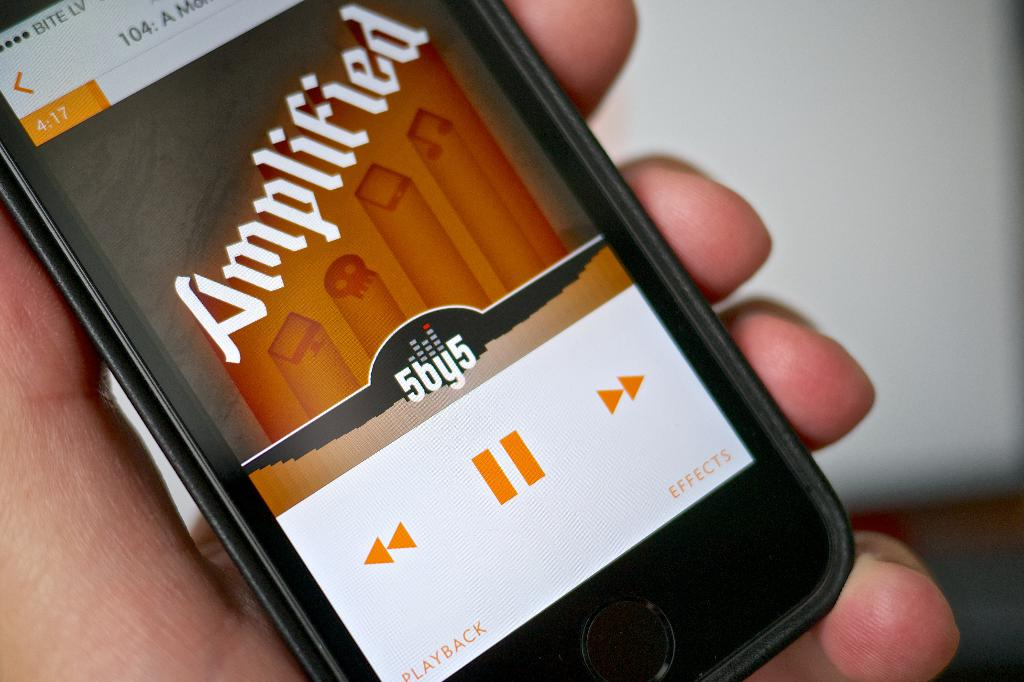Mobile-phone: (0, 0, 853, 682)
